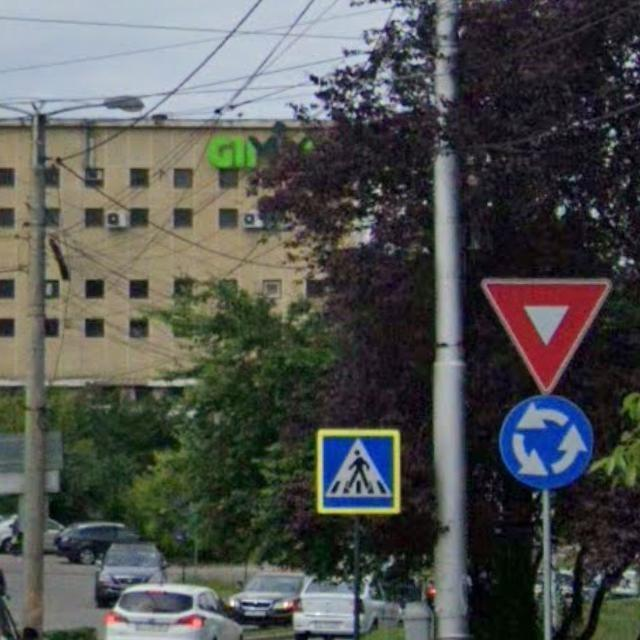info_crosswalk: (315, 428, 401, 517)
prio_give_way: (476, 276, 610, 395)
